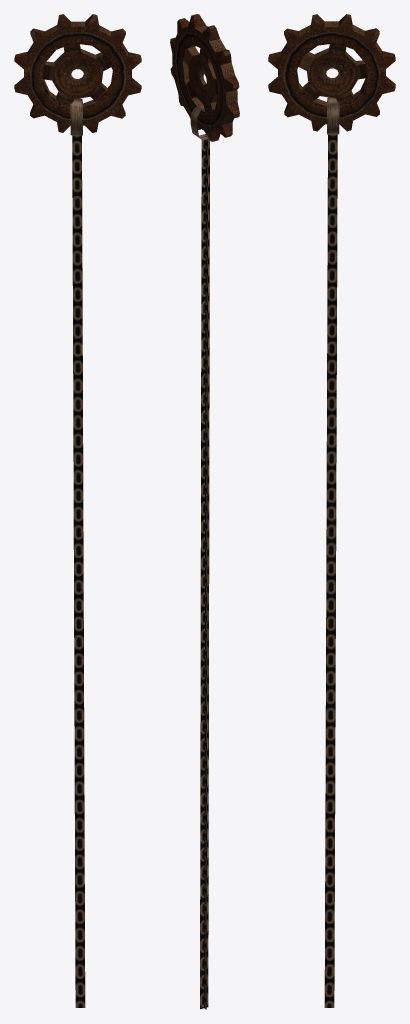
File: gear_club4_6m.fbx
The picture shows the model from 3 angles, left to right: view 1: azimuth 90°, elevation 25°; view 2: azimuth 210°, elevation 25°; view 3: azimuth 270°, elevation 25°; orthographic projection.
Parts seen in each view (by area): view 1: mesh_1, mesh_0; view 2: mesh_0, mesh_1; view 3: mesh_0, mesh_1.
Part boxes in pixels (<box>): mesh_1: <box>14,14,141,132</box>; mesh_0: <box>70,98,85,1007</box>; mesh_0: <box>190,105,209,1009</box>; mesh_1: <box>170,14,239,141</box>; mesh_0: <box>324,97,339,1007</box>; mesh_1: <box>268,14,395,131</box>.
Size of the model in its own units: 18.44 by 681 by 79.34.
2 materials, 2 textured.
